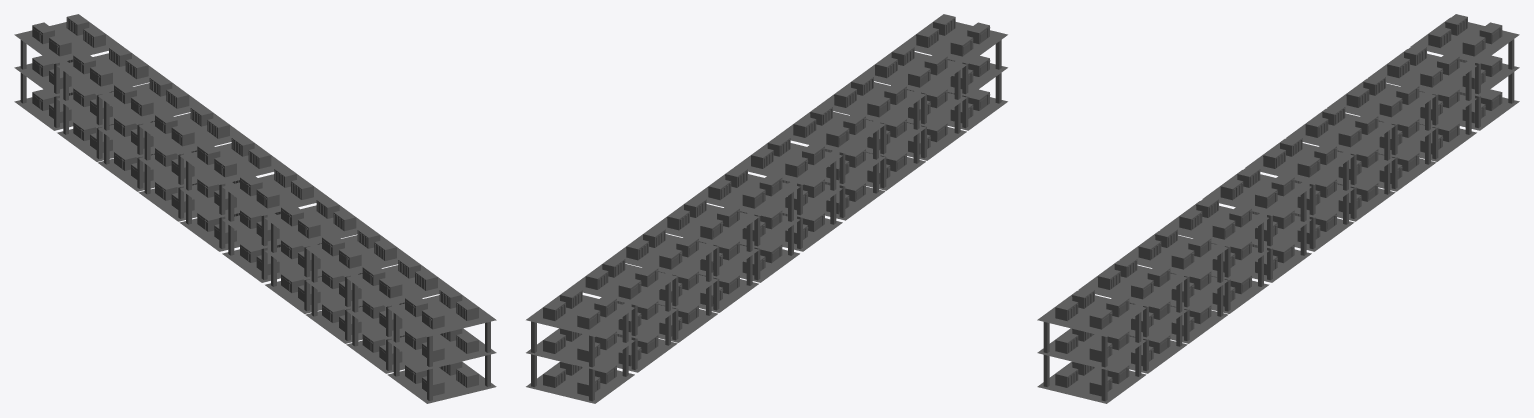
File: EstanteTecnologia_atlas.obj
3 views of the same model, side by side, from view 1: azimuth 30°, elevation 25°; view 2: azimuth 150°, elevation 25°; view 3: azimuth 330°, elevation 25° (orthographic).
Parts seen in each view (by area): view 1: EstanteTecnologia; view 2: EstanteTecnologia; view 3: EstanteTecnologia.
Part boxes in pixels (x1,y1,x2,y2): EstanteTecnologia: (14, 14, 496, 403); EstanteTecnologia: (526, 14, 1007, 403); EstanteTecnologia: (1037, 14, 1519, 403).
Bounding box in the file's own units: 2 × 2.14 × 20.52.
